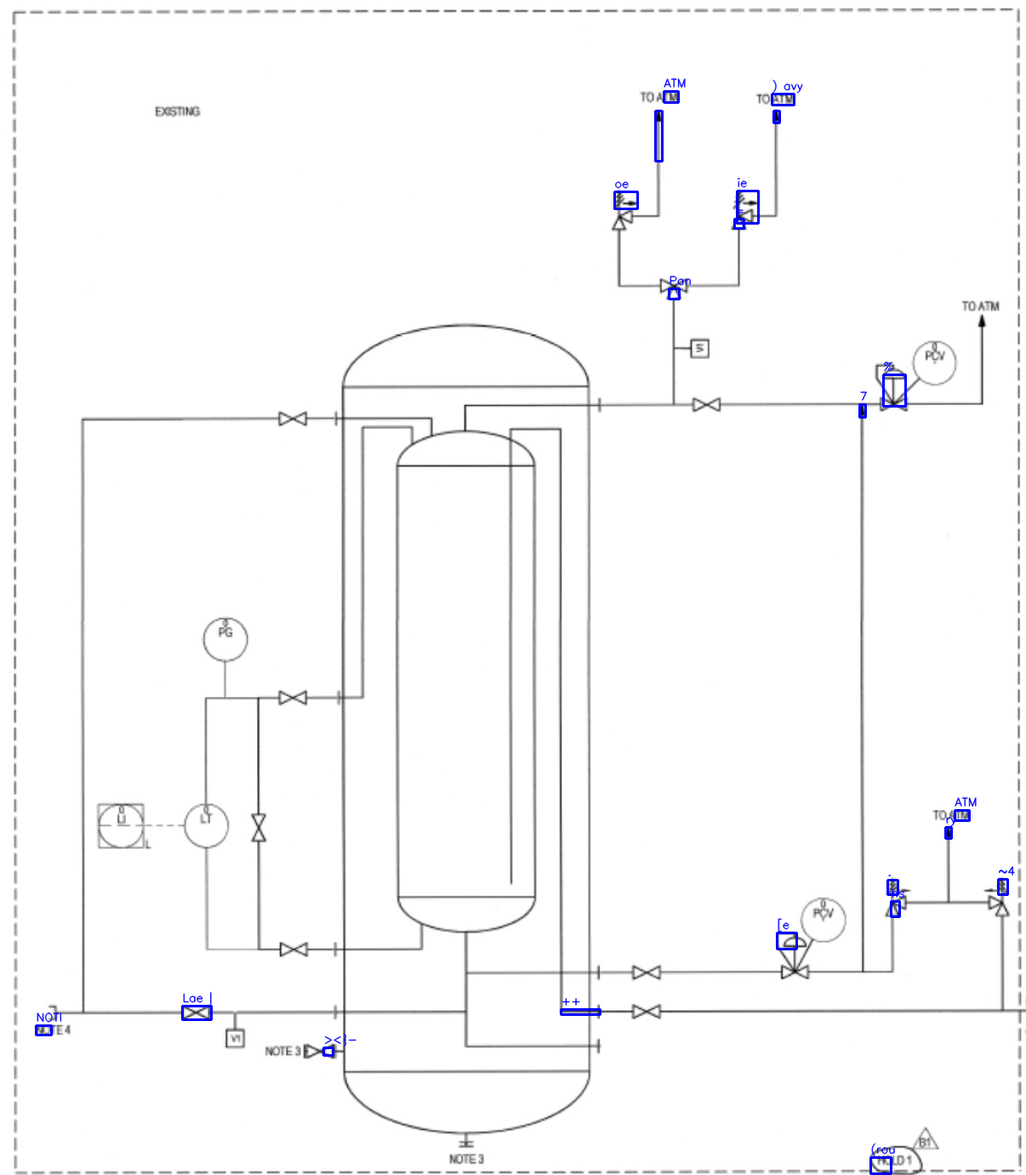Instrumento: (95, 801, 147, 852), (181, 800, 231, 853)
Outro: (199, 614, 251, 665)
Tanque: (330, 315, 600, 1144)
Válvula: (800, 891, 849, 944), (774, 924, 818, 981), (875, 356, 915, 412), (913, 338, 959, 385), (978, 871, 1016, 923), (878, 873, 917, 919), (605, 188, 640, 235), (729, 190, 761, 234), (654, 277, 693, 304), (628, 1001, 664, 1022), (630, 961, 664, 983), (248, 809, 268, 846), (275, 409, 311, 429), (689, 395, 725, 414), (276, 938, 312, 957), (179, 1004, 215, 1023), (296, 1043, 341, 1058), (272, 689, 311, 706)
